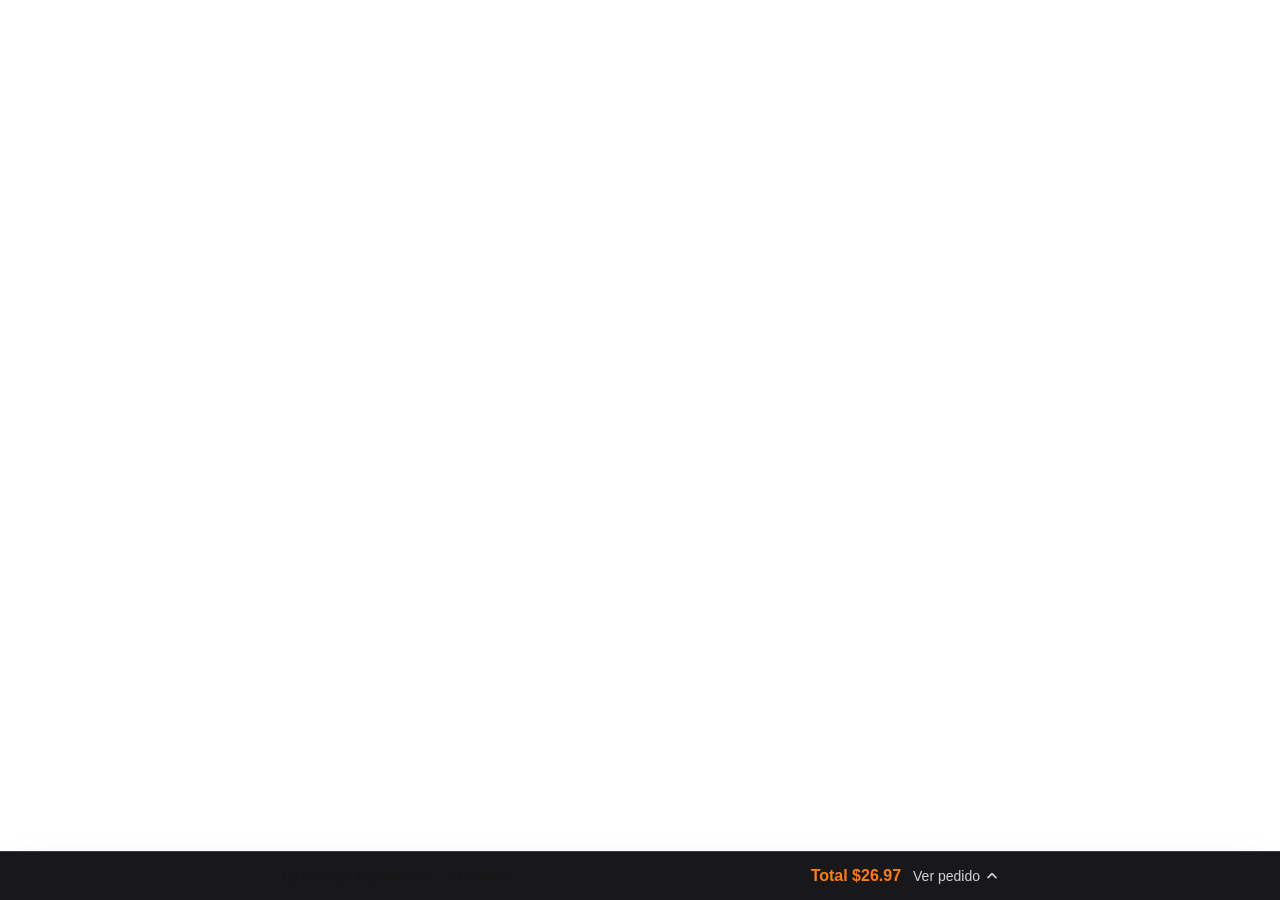
Test case: CarritoLlevar › no deja subir más allá de la disponibilidad
Click the button "Tu pedido para llevar · 3 platillos Total $26.97 Ver pedido".
click(362, 876)  # box [280,864,1000,888]
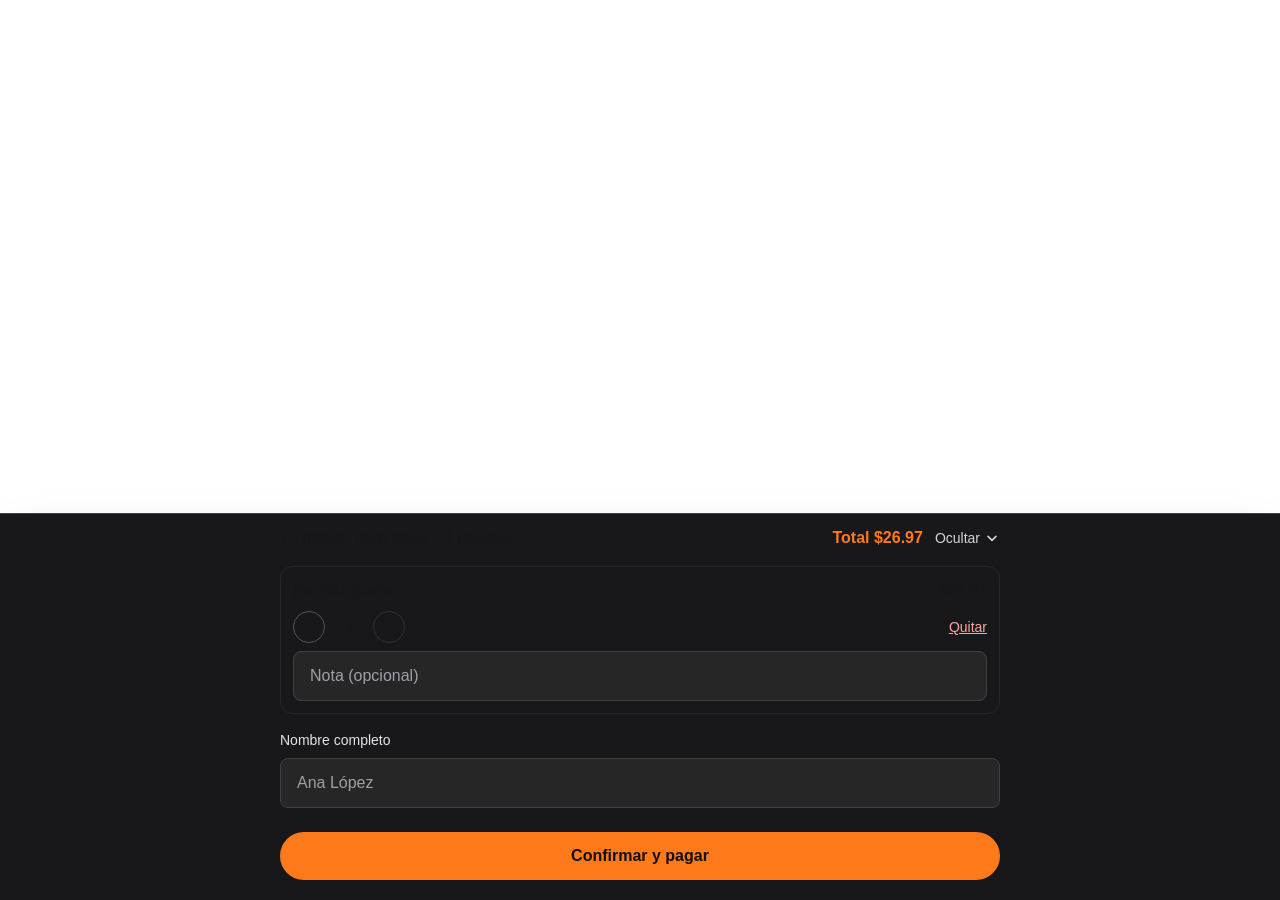
Result: the button named "Agregar una unidad de Hamburguesa" is disabled at [373,611,405,643]
